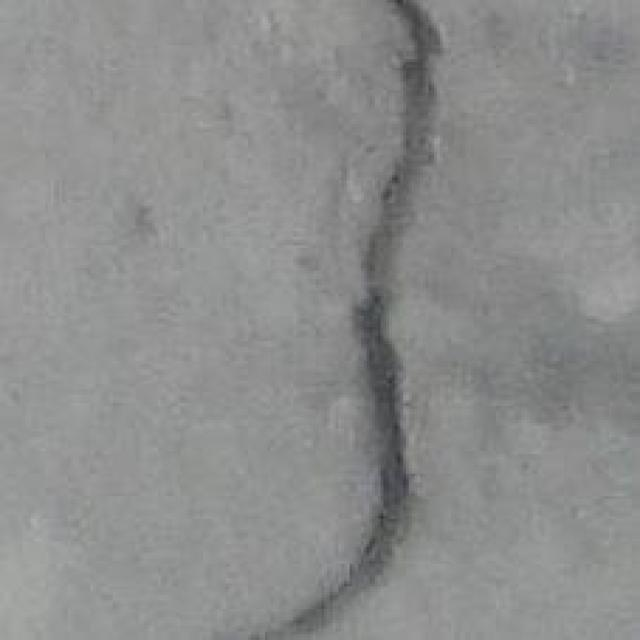Crack: (257, 1, 465, 633)
